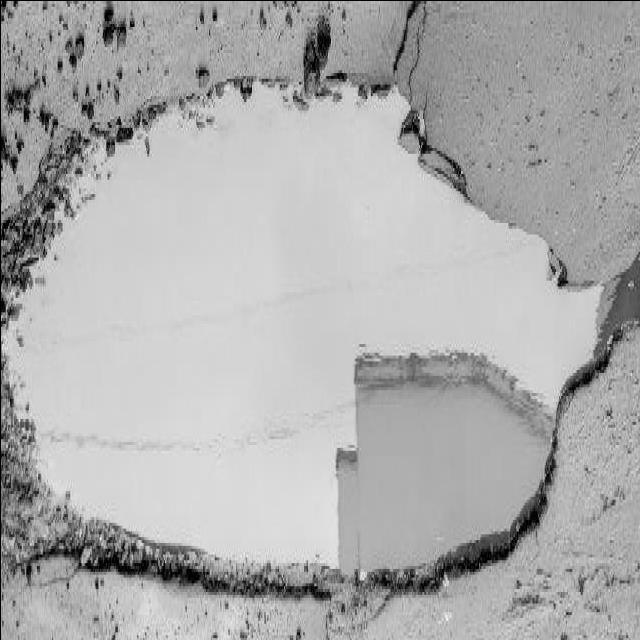jalan retak: (385, 0, 433, 137)
lubang: (0, 90, 566, 606), (552, 216, 638, 408)
